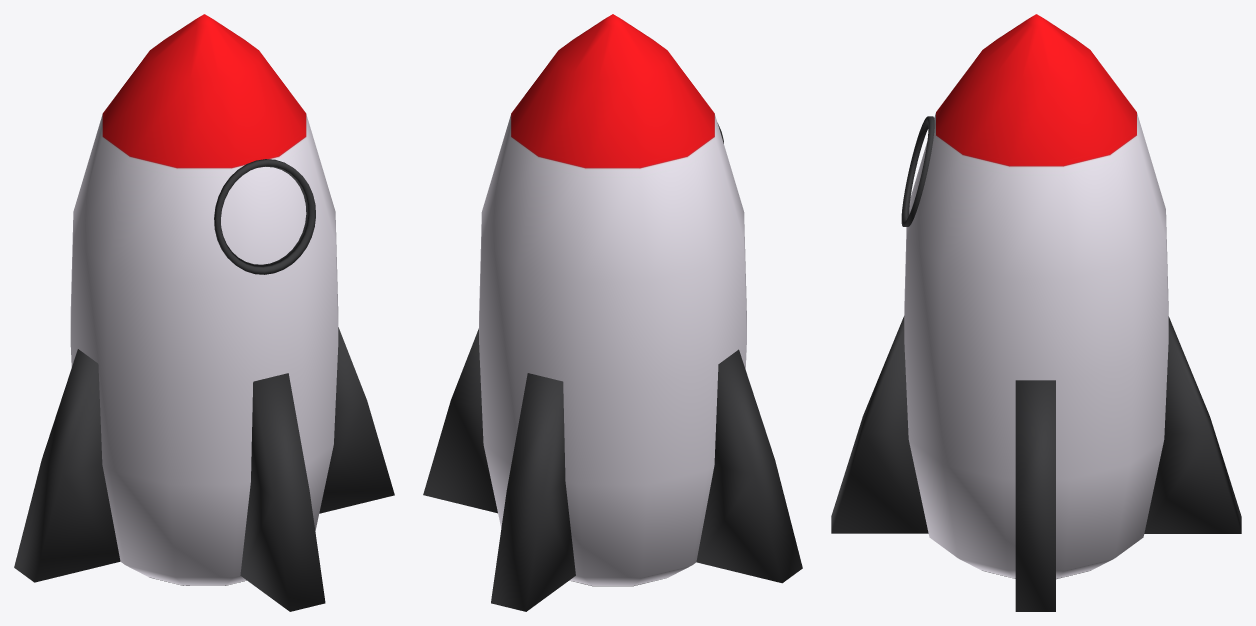
The model's file is spaceship.gltf.
3 renders of one model, left to right at view 1: azimuth 30°, elevation 25°; view 2: azimuth 150°, elevation 25°; view 3: azimuth 270°, elevation 25°, orthographic.
Visible parts, largest first — view 1: body, wing, Circle; view 2: body, wing; view 3: body, wing, Circle.
Boxes of the visible parts, x1,y1,x2,y2 form: body: (70,14,338,585); wing: (14,327,394,611); Circle: (214,159,315,274); body: (479,14,746,586); wing: (423,328,802,611); body: (904,14,1168,579); wing: (831,316,1241,611); Circle: (901,116,934,226).
Size of the model in its own units: 7.03 by 10.09 by 7.03.
3 materials, 3 textured.
